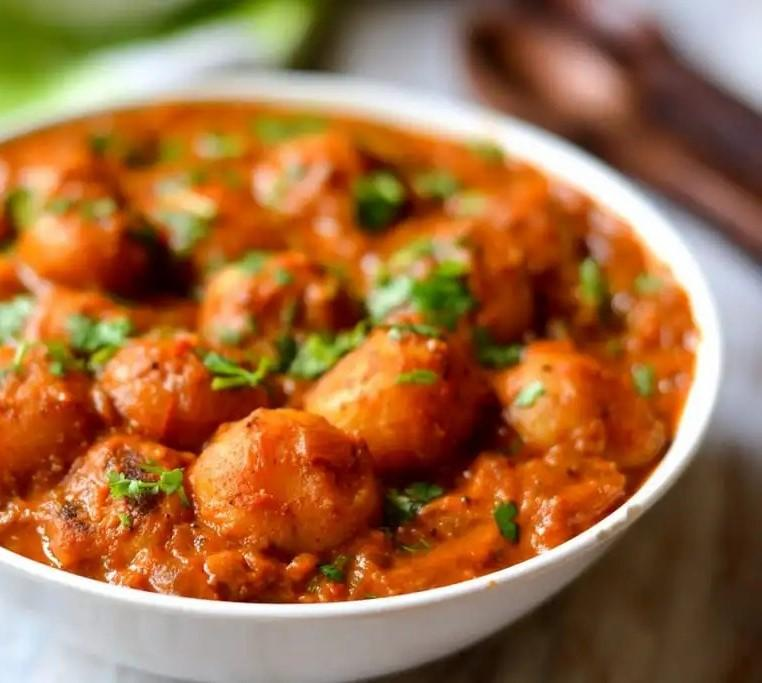DumAloo: (0, 96, 696, 604)
